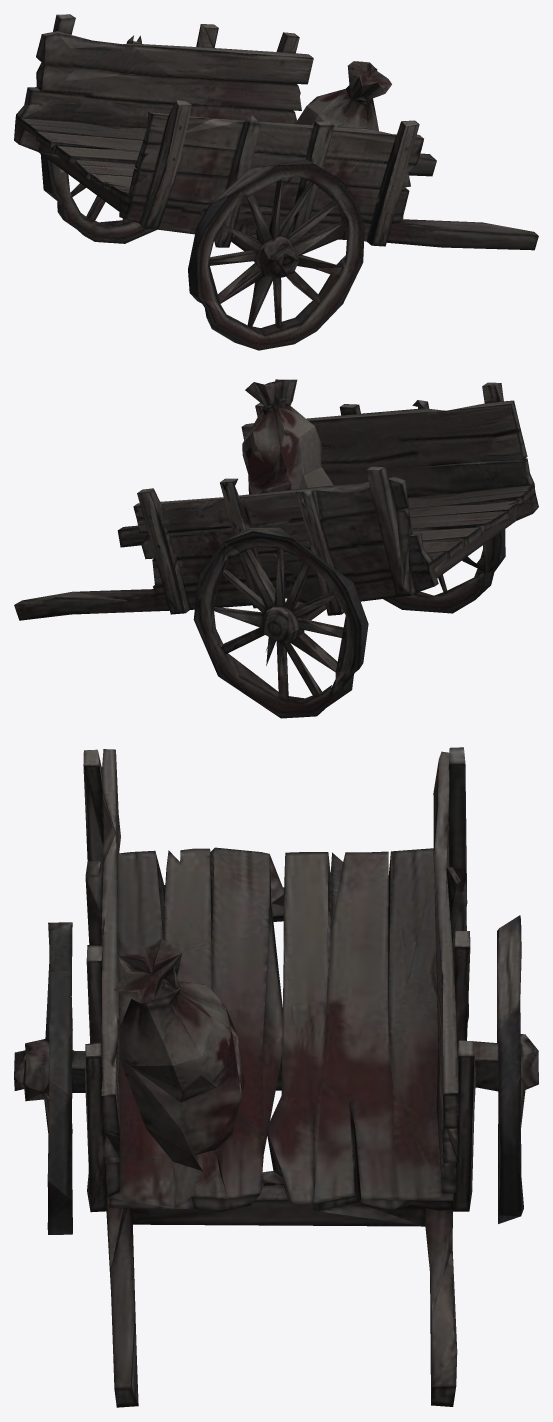
File: prop-cart.glb
3 views of the same model, one above another, from view 1: azimuth 30°, elevation 25°; view 2: azimuth 150°, elevation 25°; view 3: azimuth 270°, elevation 25° (orthographic). The views are drawn at different scales.
Bounding box in the file's own units: 1.9 × 1.11 × 1.31.
Materials: 1 (1 with a texture image).
